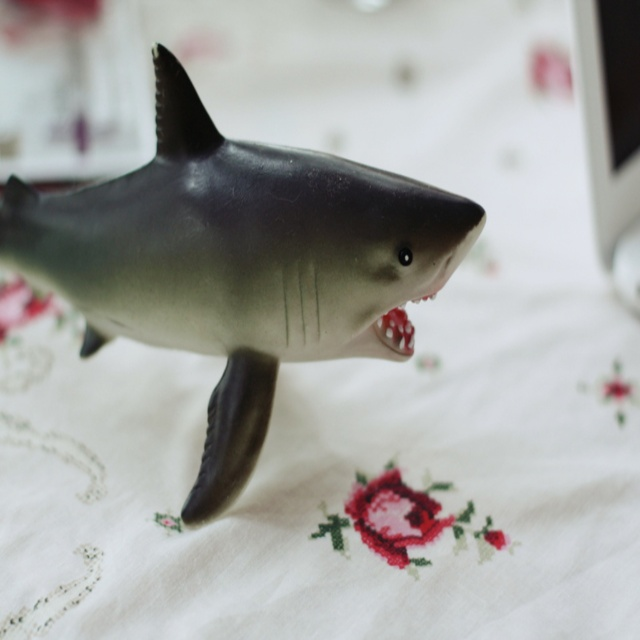Shark: (1, 43, 486, 521)
